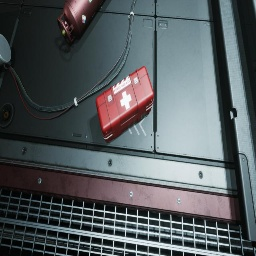0: (0, 34, 11, 66)
FirstAidBox ,: (96, 66, 154, 143)
NitrogenTank ,: (57, 0, 104, 45)
